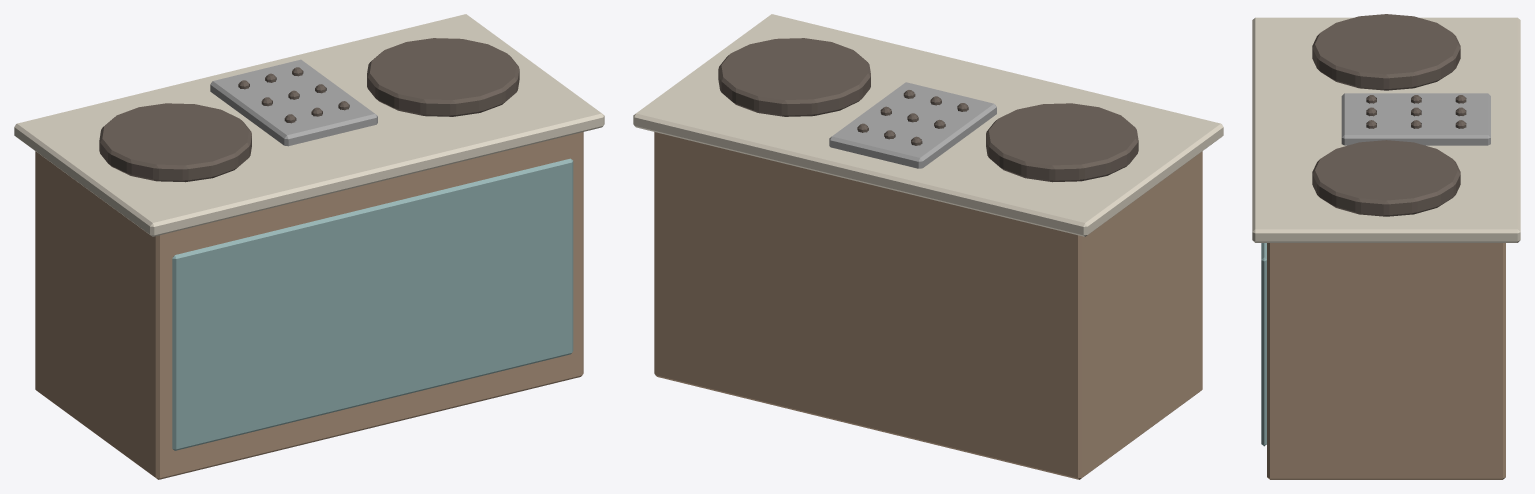
The picture shows the model from 3 angles, left to right: view 1: azimuth 30°, elevation 25°; view 2: azimuth 150°, elevation 25°; view 3: azimuth 270°, elevation 25°; orthographic projection. The views are drawn at different scales.
Visible parts, largest first — view 1: DJ_Booth; view 2: DJ_Booth; view 3: DJ_Booth.
Part boxes in pixels (<box>): DJ_Booth: <box>14,14,604,479</box>; DJ_Booth: <box>633,14,1223,479</box>; DJ_Booth: <box>1252,14,1520,479</box>.
Size of the model in its own units: 1.7 by 1.01 by 0.9.
